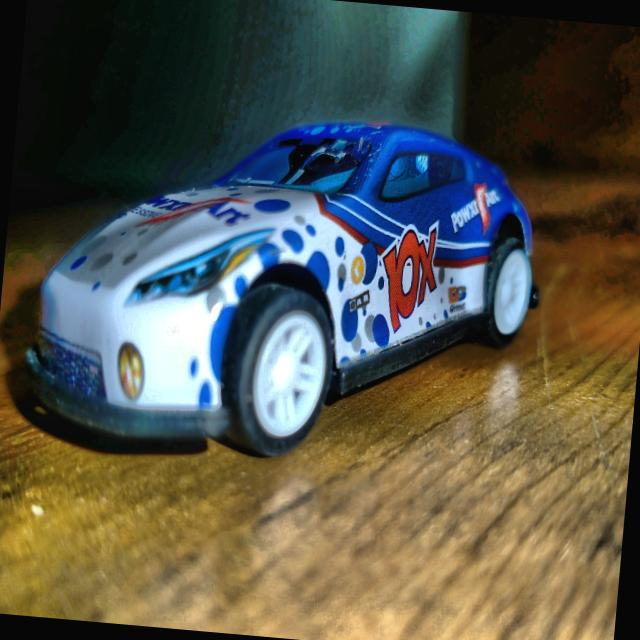Car: (21, 96, 551, 478)
